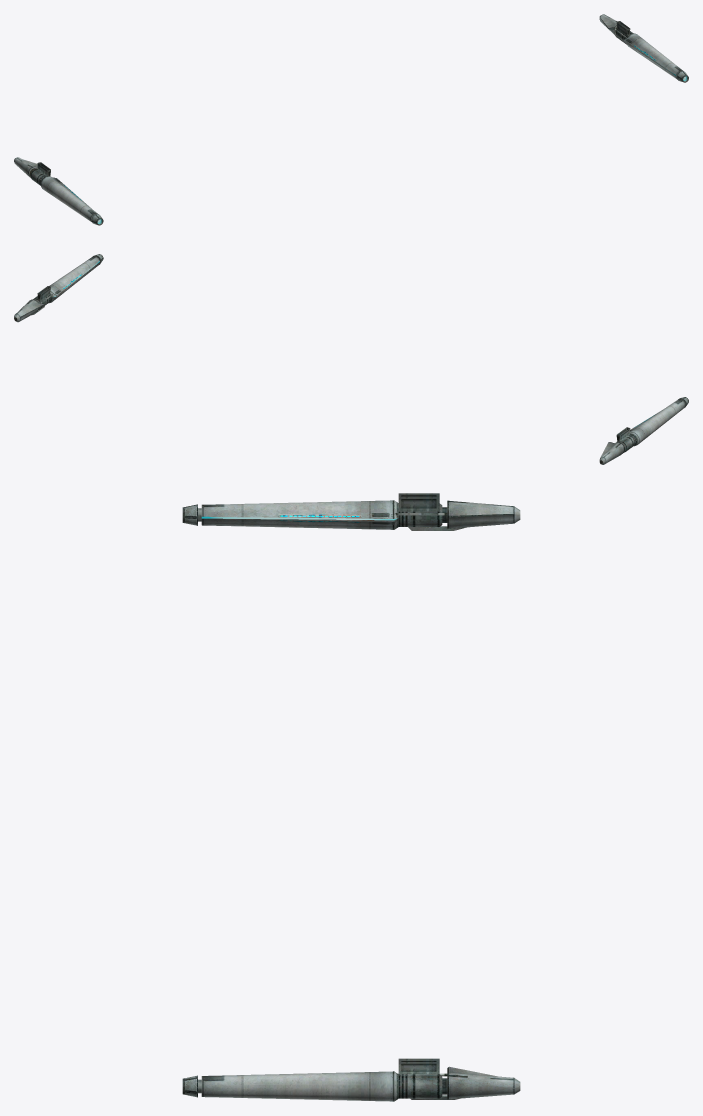
The model's file is hutt_fighter_heavy_weapon2_s02_l0.fbx.
The picture shows the model from 3 angles, top to bottom: view 1: azimuth 30°, elevation 25°; view 2: azimuth 150°, elevation 25°; view 3: azimuth 270°, elevation 25°; orthographic projection. The views are drawn at different scales.
Parts seen in each view (by area): view 1: mesh_node; view 2: mesh_node; view 3: mesh_node.
Boxes of the visible parts, box(x1,y1,x2,y2) form: mesh_node: box(14, 14, 688, 225); mesh_node: box(14, 254, 688, 464); mesh_node: box(182, 493, 520, 1101).
Size of the model in its own units: 26.53 by 0.7984 by 6.48.
1 material, 1 textured.
